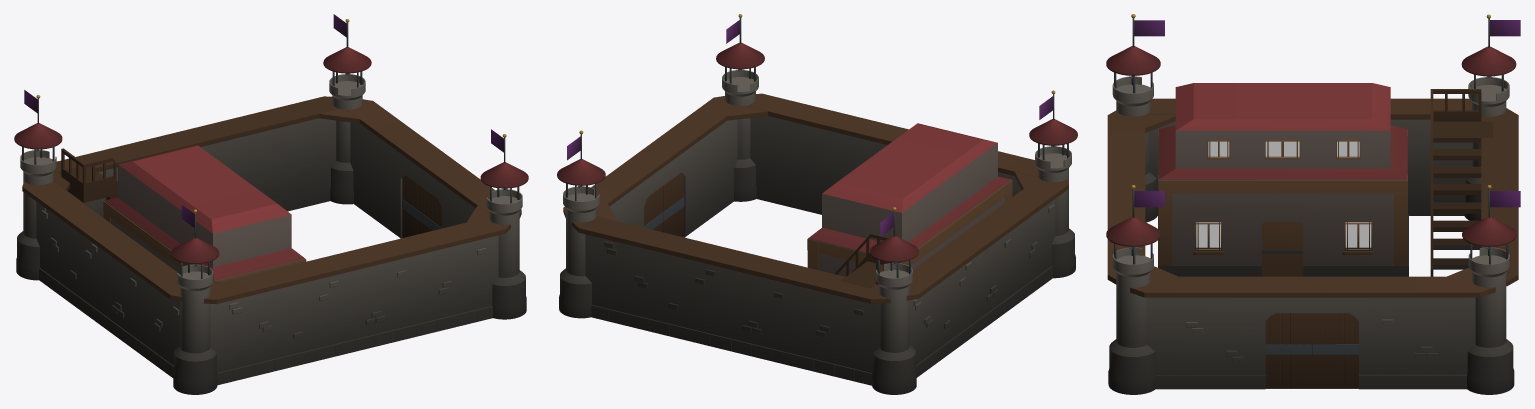
Rendered from Castle_2.0.fbx.
3 renders of one model, left to right at view 1: azimuth 30°, elevation 25°; view 2: azimuth 150°, elevation 25°; view 3: azimuth 270°, elevation 25°, orthographic. The views are drawn at different scales.
Visible parts, largest first — view 1: brick.020, Cube.018, brick.048, brick.035, Front platform, Tower.002, Tower.005, Tower.001, Tower.004, Cube.005, Cube.002; view 2: brick.035, Cube.018, brick.048, brick.020, Front platform, Tower.004, Tower.001, Tower.002, Tower.005, Cube.002, Cube.005; view 3: Cube.018, Front platform, brick.035, Tower.005, Tower.001, brick.048, brick.020, Cube.002, Cube.005, Tower.002, Tower.004, Plane.001 (+3 smaller).
Boxes of the visible parts, x1=… form: brick.020: x1=204, y1=205, x2=510, y2=385; Cube.018: x1=103, y1=145, x2=306, y2=281; brick.048: x1=22, y1=181, x2=221, y2=377; brick.035: x1=53, y1=96, x2=338, y2=217; Front platform: x1=319, y1=99, x2=521, y2=238; Tower.002: x1=171, y1=209, x2=219, y2=394; Tower.005: x1=480, y1=134, x2=528, y2=319; Tower.001: x1=323, y1=19, x2=371, y2=204; Tower.004: x1=14, y1=95, x2=62, y2=280; Cube.005: x1=402, y1=175, x2=422, y2=237; Cube.002: x1=422, y1=188, x2=441, y2=232; brick.035: x1=572, y1=216, x2=900, y2=385; Cube.018: x1=807, y1=123, x2=1012, y2=276; brick.048: x1=906, y1=172, x2=1068, y2=377; brick.020: x1=727, y1=93, x2=1038, y2=214; Front platform: x1=563, y1=96, x2=740, y2=237; Tower.004: x1=870, y1=207, x2=918, y2=394; Tower.001: x1=557, y1=130, x2=605, y2=318; Tower.002: x1=1029, y1=90, x2=1077, y2=278; Tower.005: x1=716, y1=14, x2=764, y2=201; Cube.002: x1=663, y1=172, x2=684, y2=236; Cube.005: x1=644, y1=186, x2=663, y2=232; Cube.018: x1=1158, y1=83, x2=1408, y2=276; Front platform: x1=1130, y1=268, x2=1495, y2=389; brick.035: x1=1430, y1=89, x2=1518, y2=286; Tower.005: x1=1106, y1=185, x2=1160, y2=394; Tower.001: x1=1462, y1=185, x2=1516, y2=394; brick.048: x1=1145, y1=98, x2=1472, y2=215; brick.020: x1=1107, y1=110, x2=1177, y2=284; Cube.002: x1=1265, y1=313, x2=1312, y2=387; Cube.005: x1=1312, y1=313, x2=1358, y2=387; Tower.002: x1=1106, y1=14, x2=1160, y2=222; Tower.004: x1=1461, y1=14, x2=1516, y2=220; Plane.001: x1=1490, y1=191, x2=1520, y2=207.
Size of the model in its own units: 2453 by 1230 by 2211.
